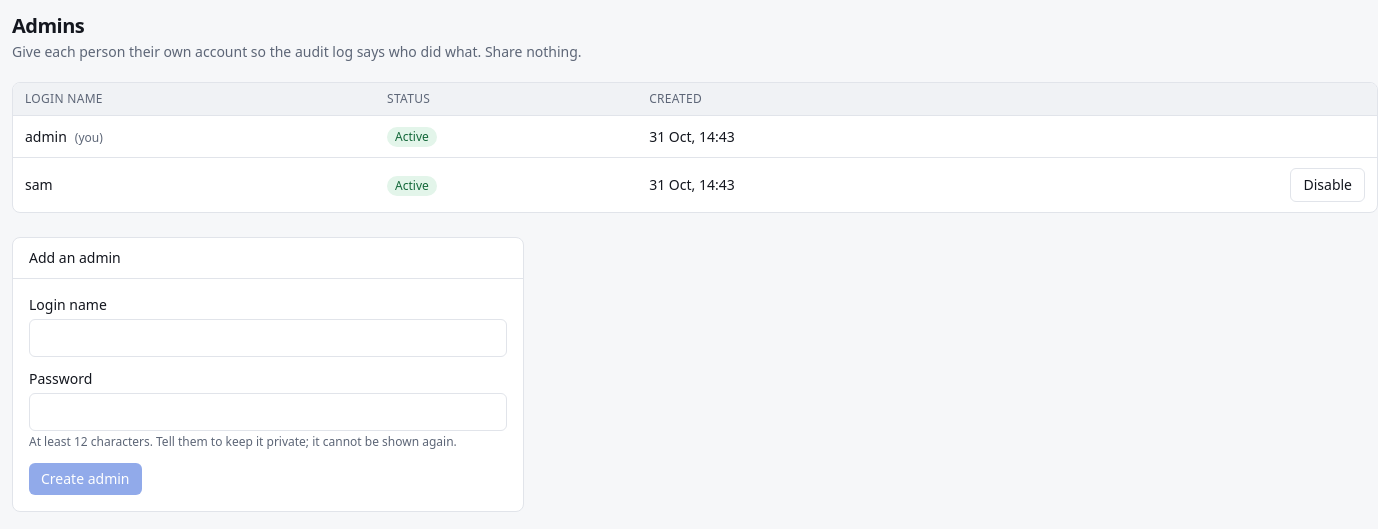
Test: Admins page › will not submit a short password
Expected: the table is shown, [13,83,1377,212]
Type "newperson" into the field labelled "Login name". click: (268, 338)
box: [29,319,507,357]
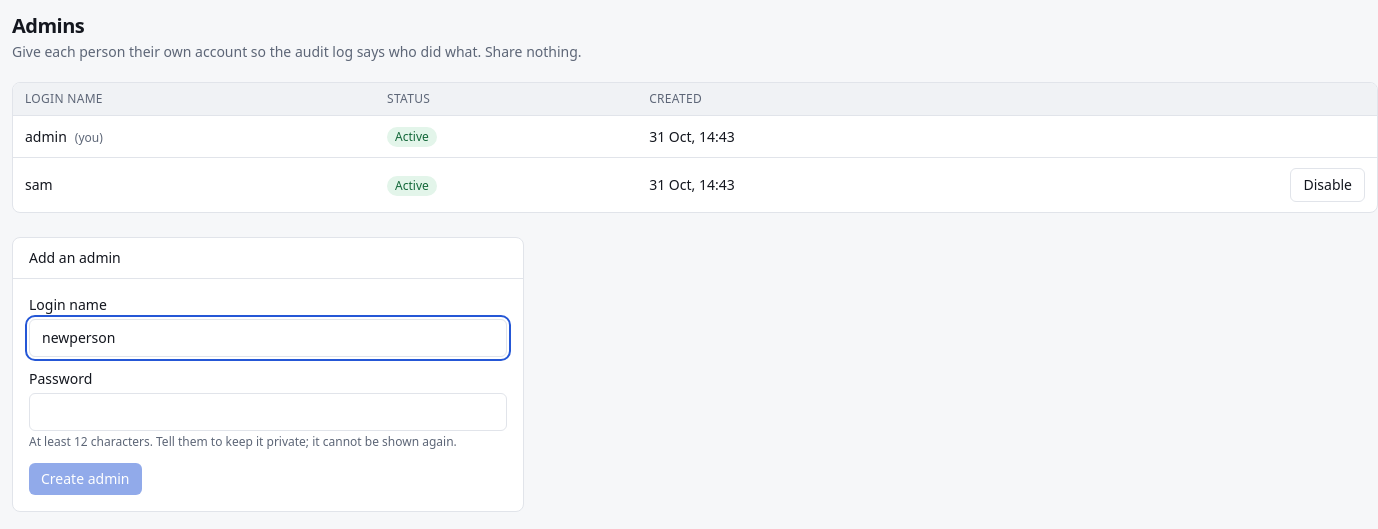
Type "short" into the password field labelled "Password". click: (268, 412)
box: [29,393,507,431]
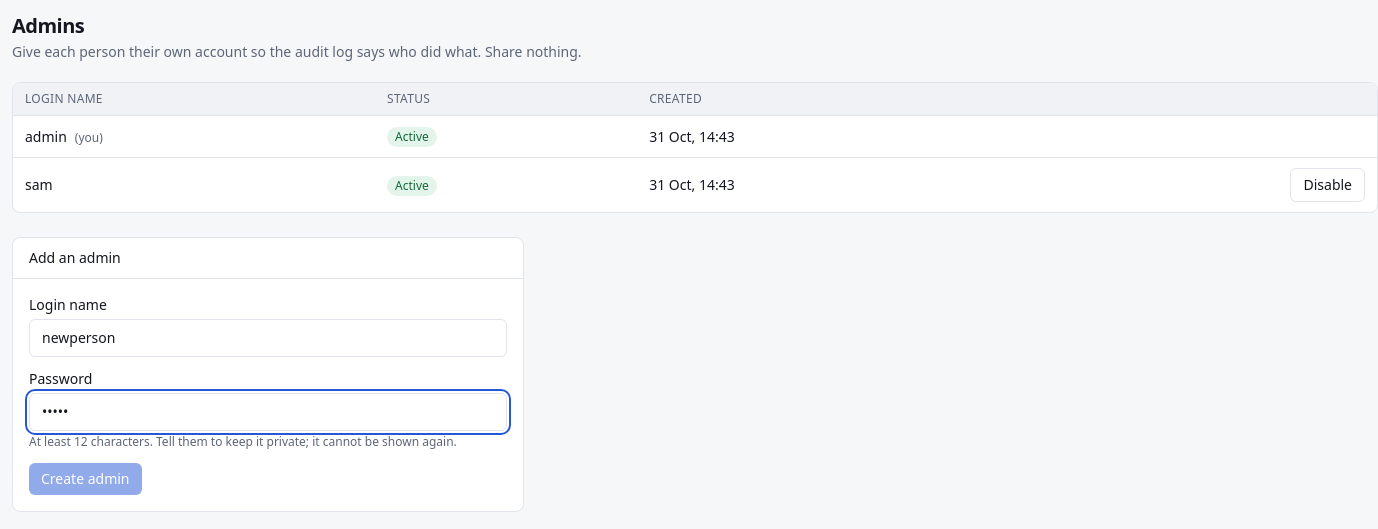
Expected: the button "Create admin" is disabled, [29,463,142,495]
Type "-long-enough" into the password field labelled "Password". click: (268, 412)
box: [29,393,507,431]
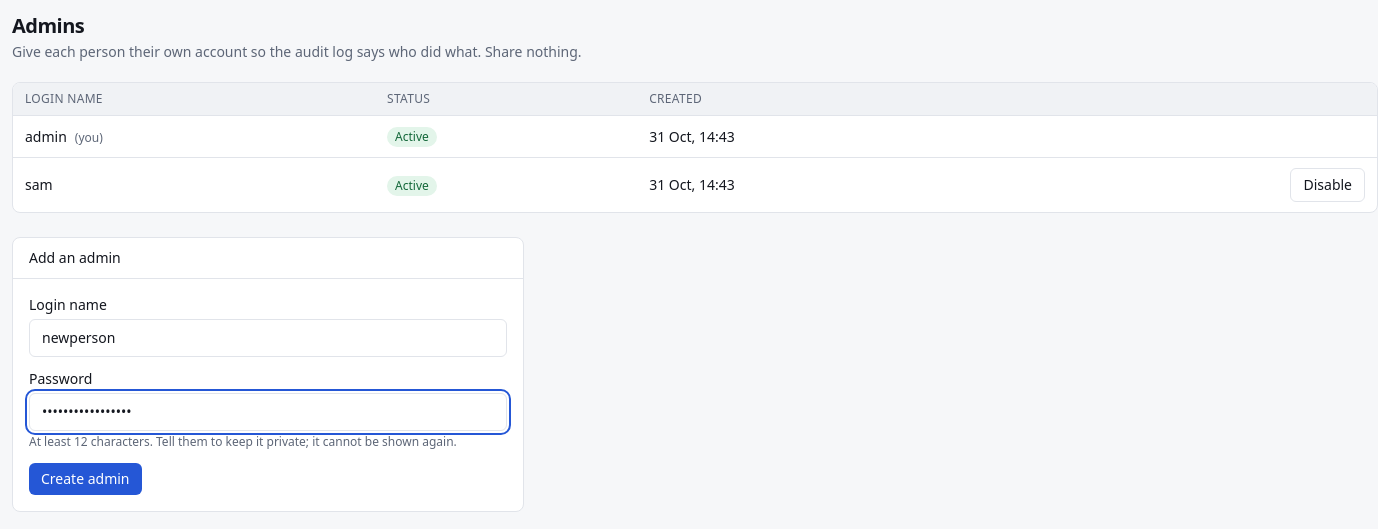
Now the button "Create admin" is enabled, box [29,463,142,495]
